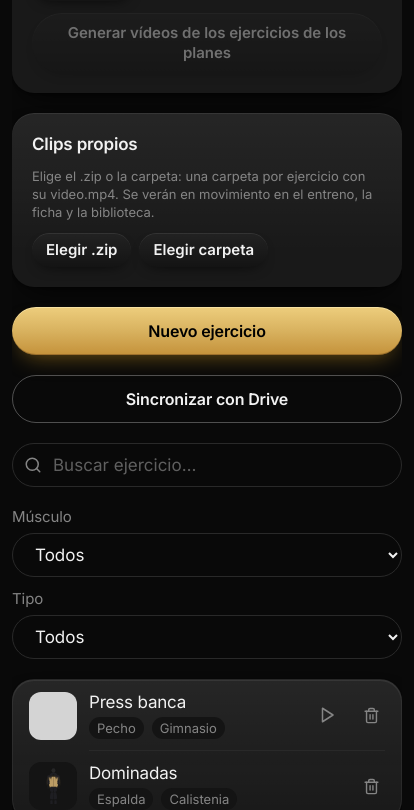
Test: ExerciseLibrary › lists the exercises and narrows them with the search
(page scrolled)
Check: the text "Press banca" is shown, box [89,692,186,712]
Type "domin" into the search field labelled "Buscar ejercicio" at (207, 465), box [12,443,402,487]
(page scrolled)
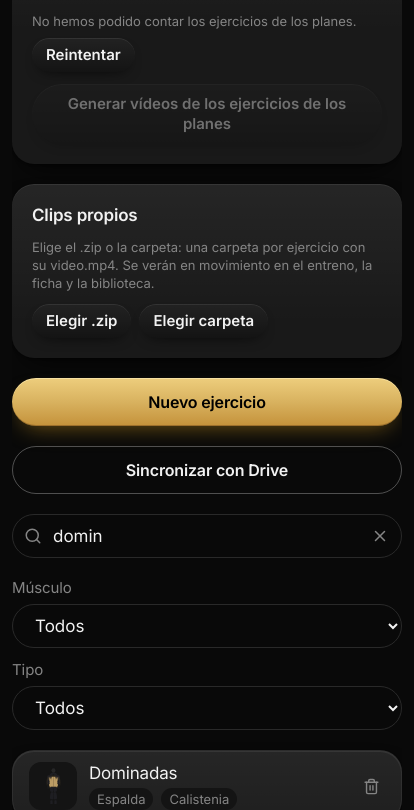
Check: the button "Press banca" is gone
Replace the text in the search field named "Buscar ejercicio" with "zzz" at (207, 536), box [12,514,402,558]
(page scrolled)
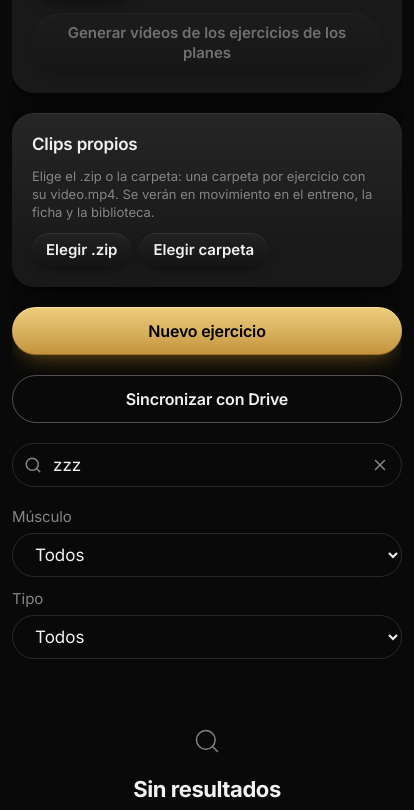
Check: the text "Sin resultados" is shown, box [133,775,281,803]
